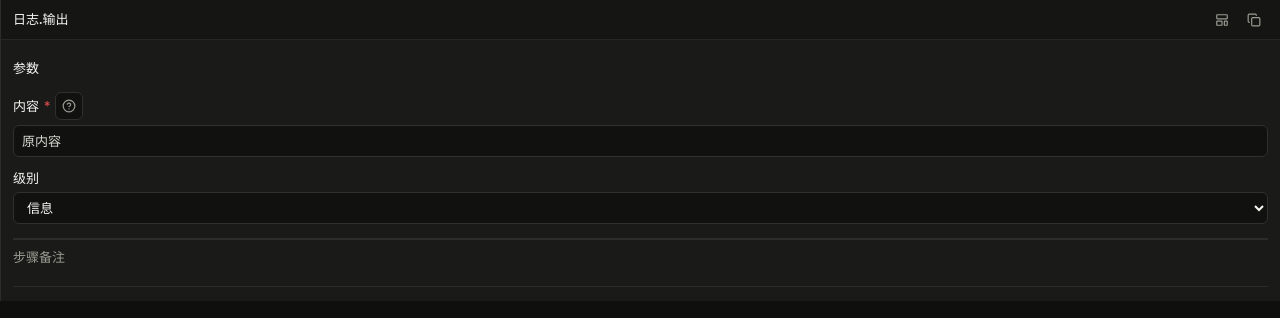
Test: ProgramStatementInspector › uses one composer for open scalar content and a plain select for fixed contract choices
Check: the number of dropdowns is 1, box [13, 192, 1268, 224]
Click the button with class "expression-surface" at (42, 141), box [13, 125, 1268, 157]
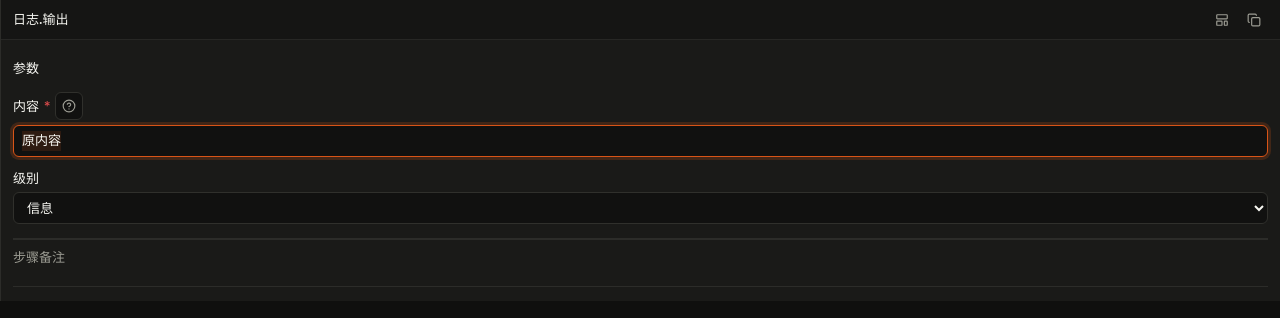
Check: the dropdown with class "expression-editor" is shown, box [13, 125, 1268, 157]
Click the button named "内容的填写帮助" at (70, 106), box [56, 92, 84, 120]
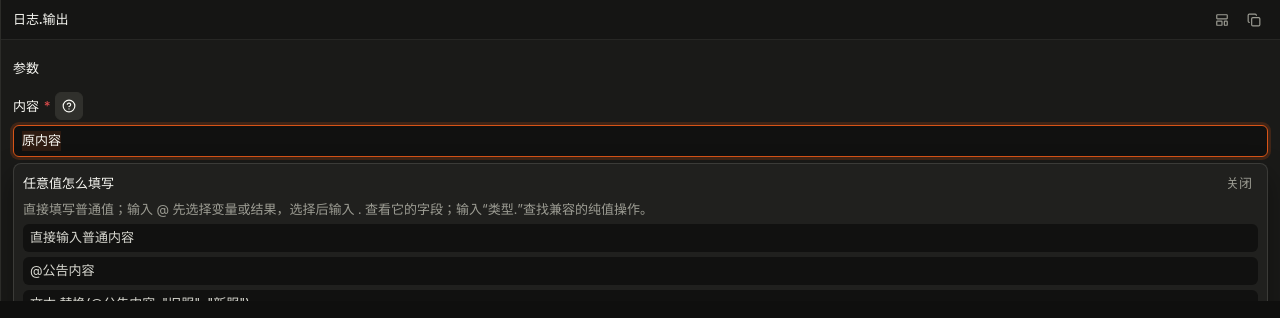
Check: the element with class "expression-help" shows "输入 @ 先选择变量或结果", box [23, 200, 653, 216]
